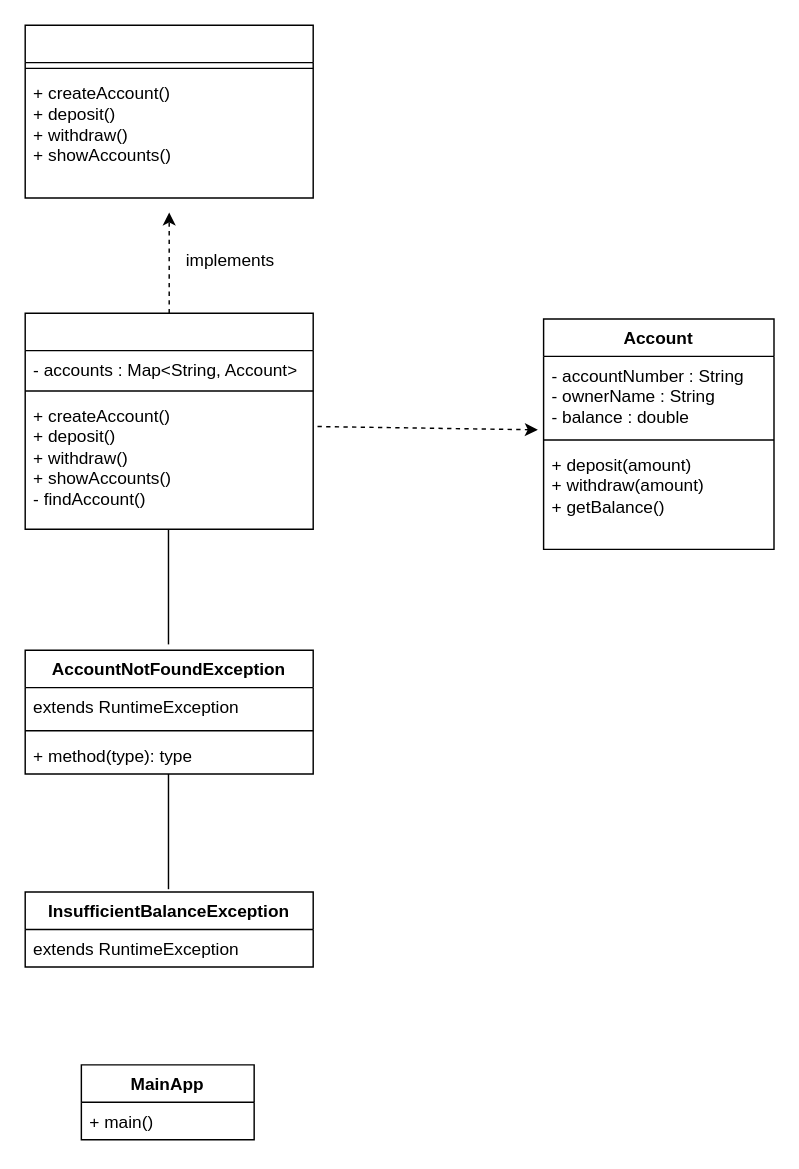
This 799x1169 diagram has some shape labels left out. The shapes that lost their labels are listed below. From the top down, each one's box as (x1, y1, x2, y2) in pixels, then its label:
(24, 24, 313, 198): BankService
(24, 312, 313, 529): BankServiceImpl
